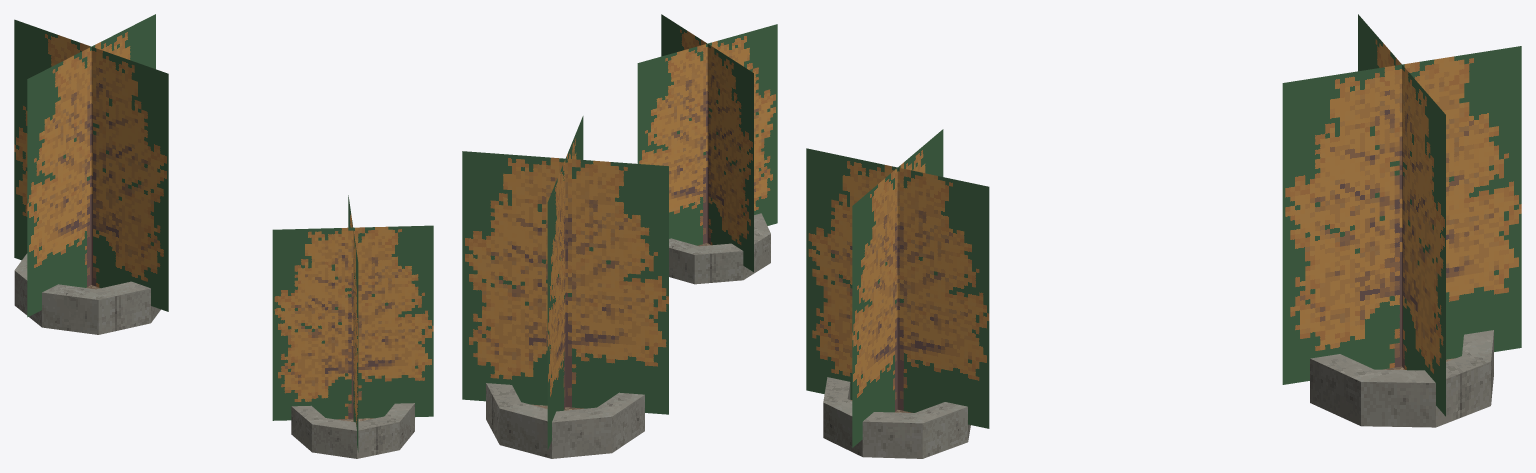
File: procgen-procpain-tree-park-large-x2z1.obj
3 views of the same model, side by side, from view 1: azimuth 30°, elevation 25°; view 2: azimuth 150°, elevation 25°; view 3: azimuth 270°, elevation 25° (orthographic). The views are drawn at different scales.
Bounding box in the file's own units: 6.76 × 7.99 × 15.98.
